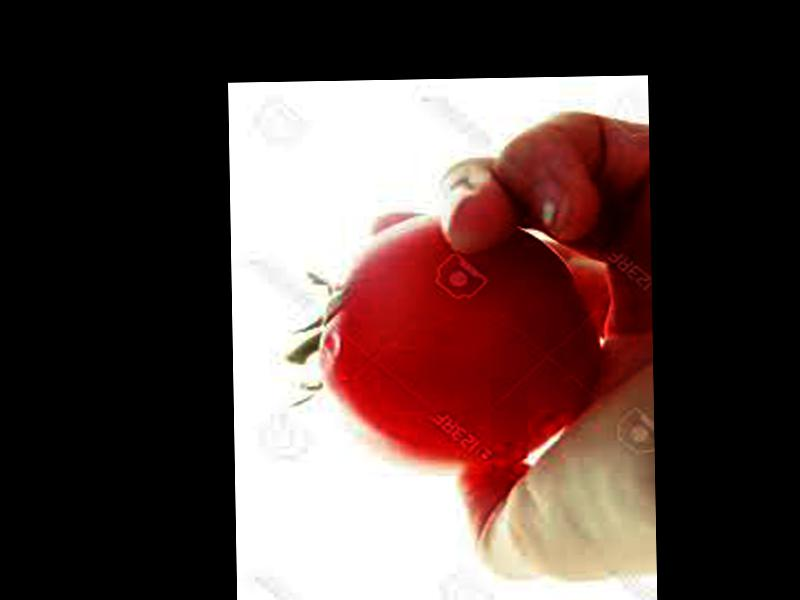Tomato: (313, 210, 597, 473)
